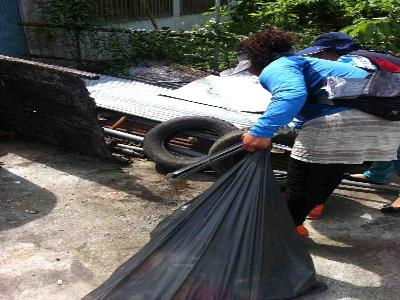plastic_bag: (77, 143, 329, 300)
tire: (143, 114, 244, 173)
